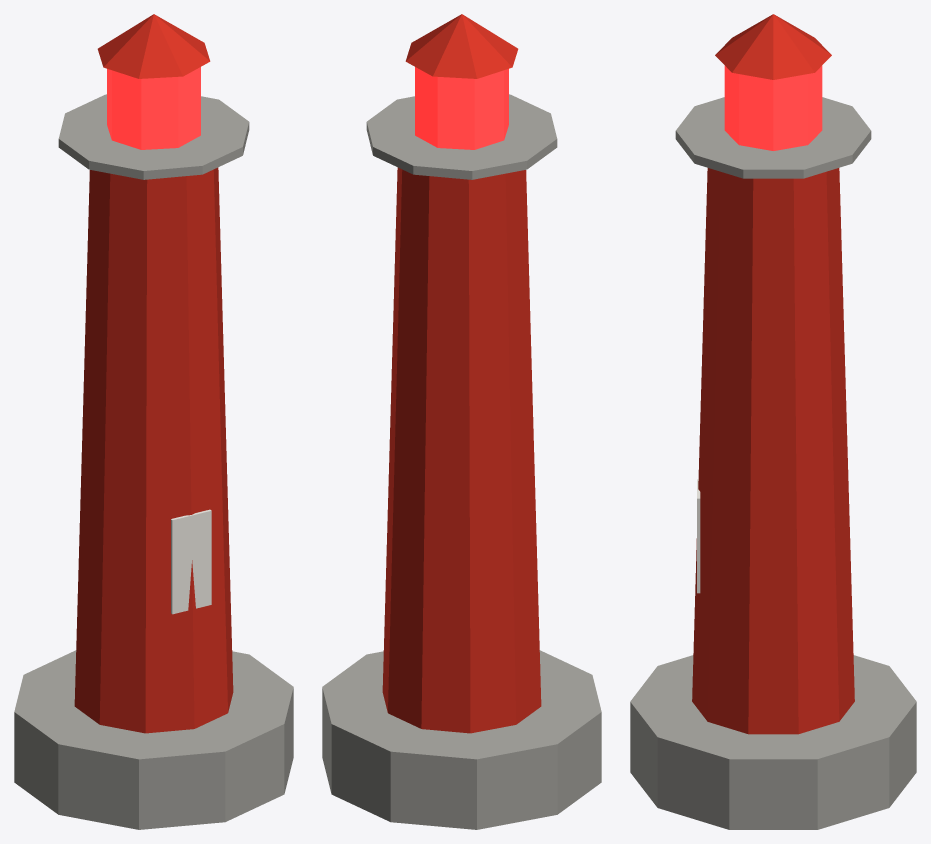
The model's file is fyr_jp.glb.
3 renders of one model, left to right at view 1: azimuth 30°, elevation 25°; view 2: azimuth 150°, elevation 25°; view 3: azimuth 270°, elevation 25°, orthographic.
Parts seen in each view (by area): view 1: fyr_jp; view 2: fyr_jp; view 3: fyr_jp.
Boxes of the visible parts, box(x1,y1,x2,y2) form: fyr_jp: box(14, 14, 293, 829); fyr_jp: box(322, 14, 601, 829); fyr_jp: box(630, 14, 916, 829).
Bounding box in the file's own units: 4.18 × 12.85 × 4.4.
